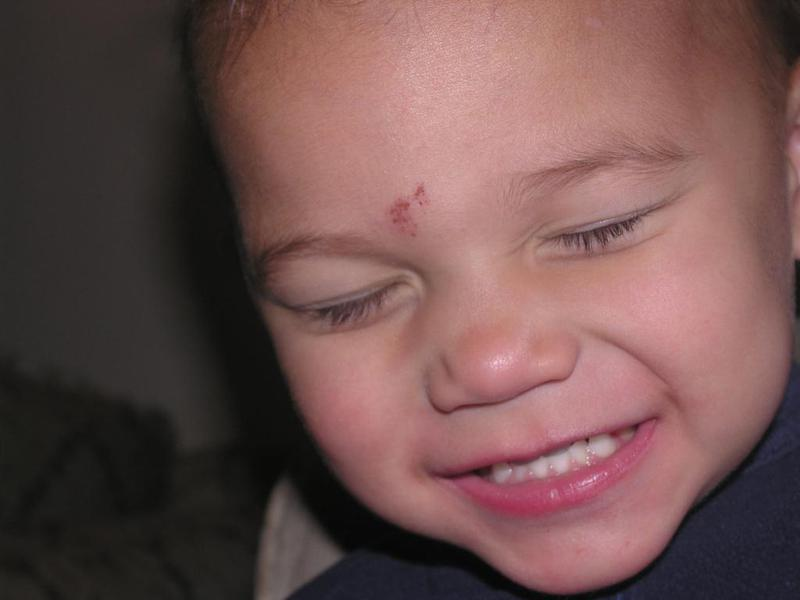person: (173, 3, 796, 600)
